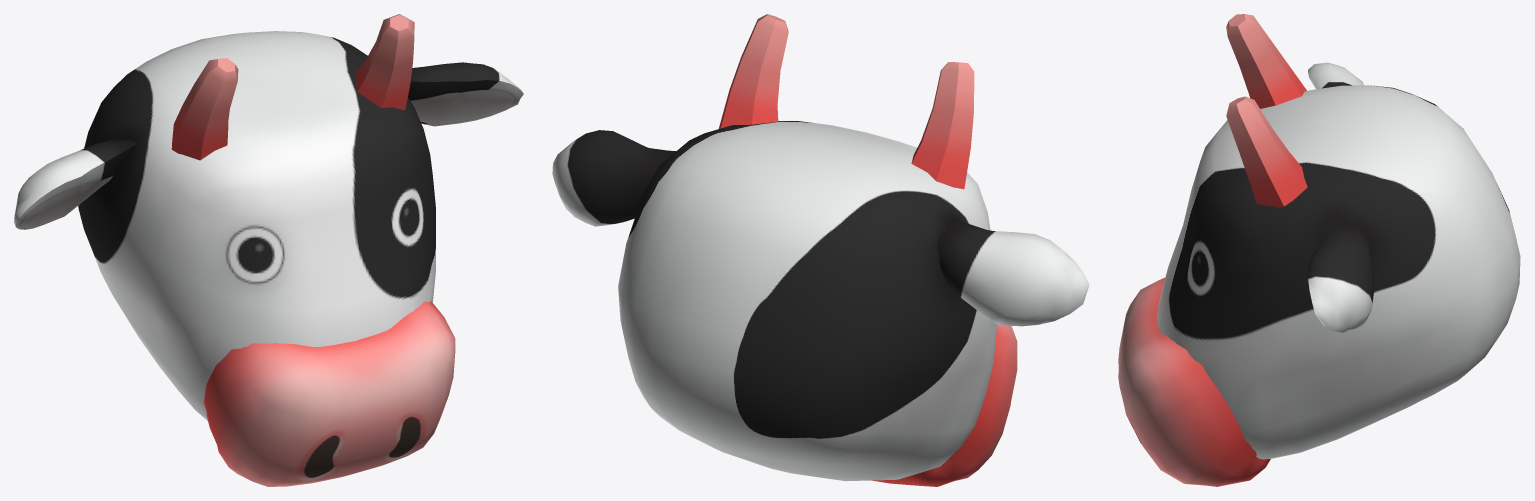
File: cow.FBX
3 renders of one model, left to right at view 1: azimuth 30°, elevation 25°; view 2: azimuth 150°, elevation 25°; view 3: azimuth 270°, elevation 25°, orthographic. The views are drawn at different scales.
Parts seen in each view (by area): view 1: cow; view 2: cow; view 3: cow.
Part boxes in pixels (x1,y1,x2,y2): cow: (14, 14, 523, 486); cow: (552, 14, 1089, 486); cow: (1118, 14, 1520, 486).
Size of the model in its own units: 49.08 by 38.99 by 35.25.
